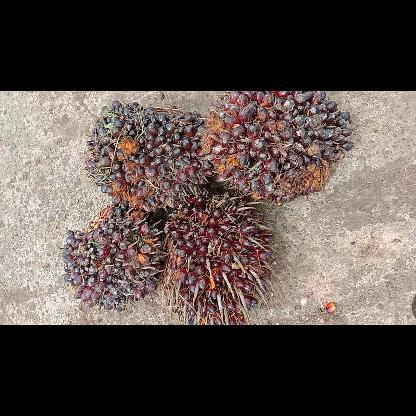Kurang masak: (199, 91, 354, 209), (160, 190, 276, 324), (83, 98, 211, 214), (60, 202, 166, 312)
